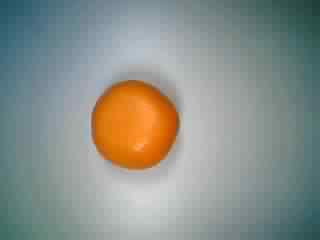orange: (86, 77, 181, 171)
